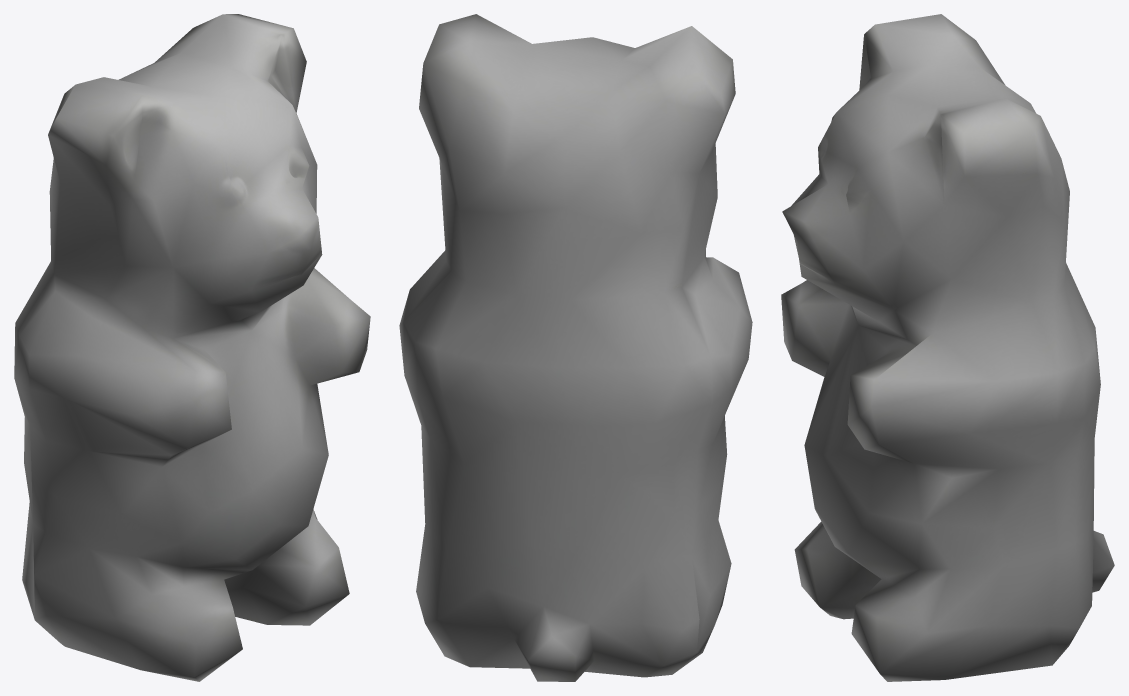
The model's file is osito.glb.
3 renders of one model, left to right at view 1: azimuth 30°, elevation 25°; view 2: azimuth 150°, elevation 25°; view 3: azimuth 270°, elevation 25°, orthographic. The views are drawn at different scales.
Visible parts, largest first — view 1: tripo_node_0fdd1575-95de-4d3b-b5c3-696724ec4e52; view 2: tripo_node_0fdd1575-95de-4d3b-b5c3-696724ec4e52; view 3: tripo_node_0fdd1575-95de-4d3b-b5c3-696724ec4e52.
Part boxes in pixels (box(x1,y1,x2,y2)): tripo_node_0fdd1575-95de-4d3b-b5c3-696724ec4e52: box(14, 14, 370, 681); tripo_node_0fdd1575-95de-4d3b-b5c3-696724ec4e52: box(399, 14, 752, 681); tripo_node_0fdd1575-95de-4d3b-b5c3-696724ec4e52: box(781, 14, 1114, 681).
Bounding box in the file's own units: 0.5392 × 0.9855 × 0.5189.
1 material, 1 textured.
